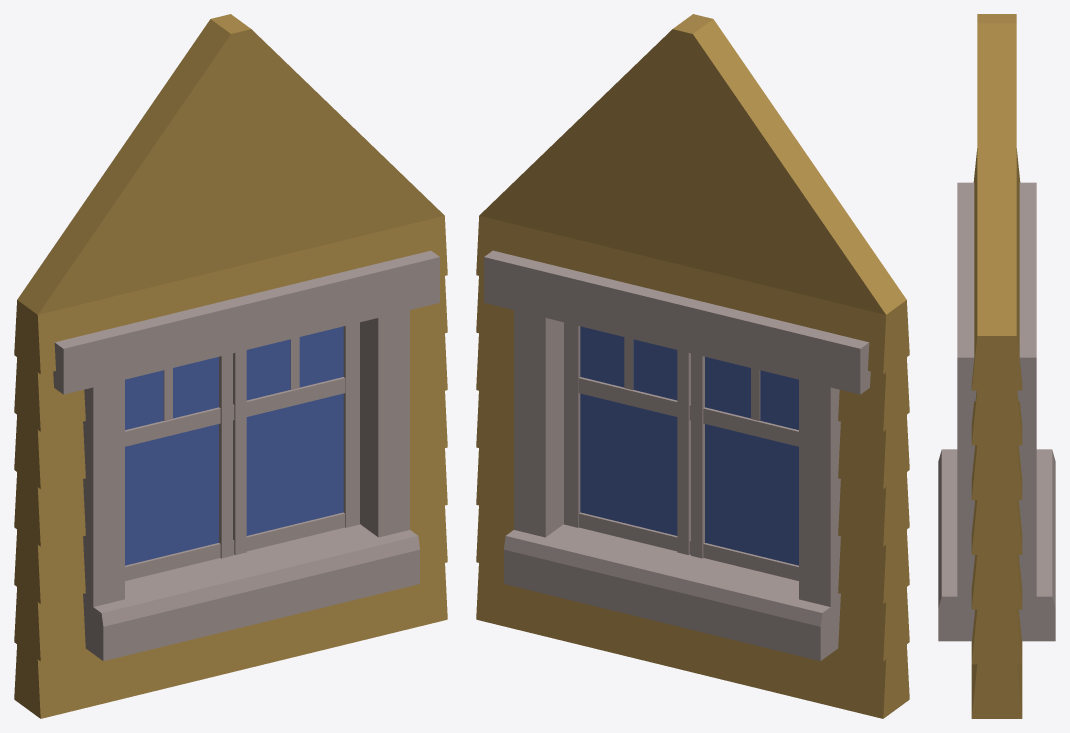
The model's file is Window02_house4.obj.
The picture shows the model from 3 angles, left to right: view 1: azimuth 30°, elevation 25°; view 2: azimuth 150°, elevation 25°; view 3: azimuth 270°, elevation 25°; orthographic projection. The views are drawn at different scales.
Parts seen in each view (by area): view 1: Window02_house04_Cube.002; view 2: Window02_house04_Cube.002; view 3: Window02_house04_Cube.002.
Part boxes in pixels (bbox=[...]): Window02_house04_Cube.002: bbox=[14, 14, 447, 718]; Window02_house04_Cube.002: bbox=[476, 14, 909, 718]; Window02_house04_Cube.002: bbox=[938, 14, 1055, 718].
Size of the model in its own units: 3.5 by 5.23 by 0.9168.
